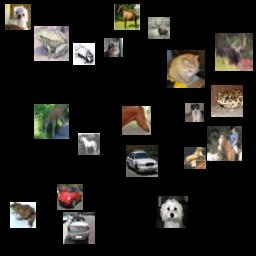automobile: (126, 145, 158, 177), (63, 212, 95, 244), (57, 184, 83, 210)
cat: (167, 50, 205, 88), (104, 38, 123, 57)
deer: (215, 33, 253, 71), (34, 104, 69, 139), (148, 17, 170, 39)
dog: (156, 196, 188, 228), (5, 4, 31, 30), (185, 103, 204, 122)
frog: (34, 26, 69, 61), (211, 85, 243, 117), (10, 202, 36, 228)
truck: (73, 43, 95, 65)
